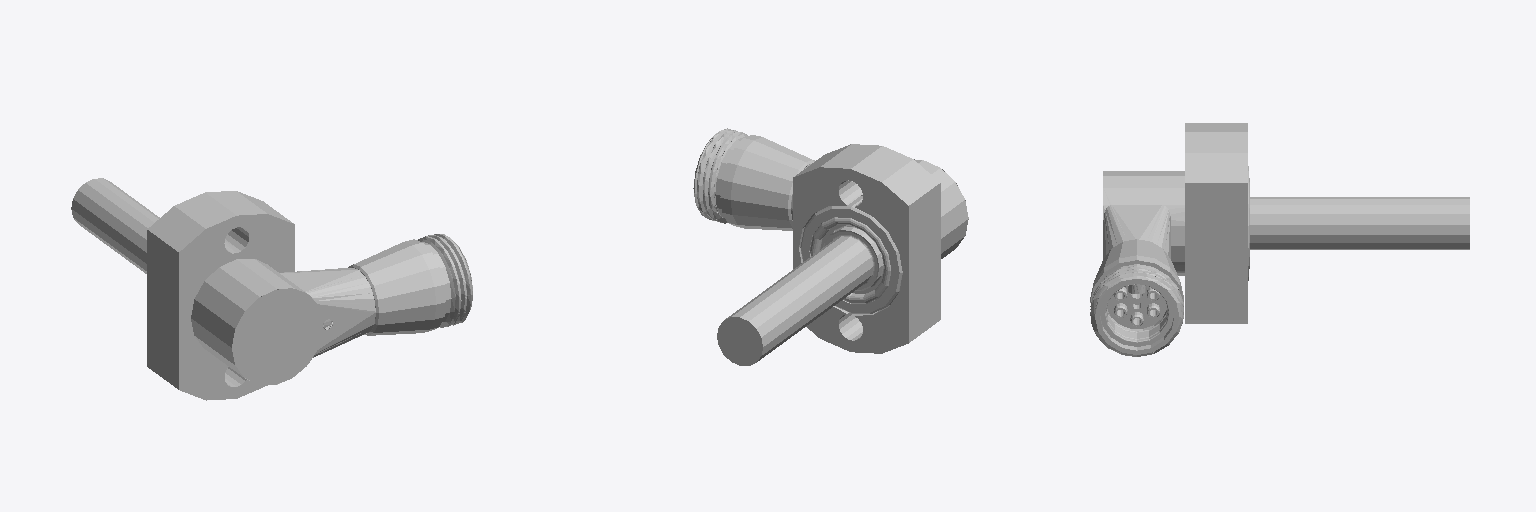
Rendered from Inductive sensor NJ2-PD-E02-2.062-V95.obj.
3 views of the same model, side by side, from view 1: azimuth 30°, elevation 25°; view 2: azimuth 150°, elevation 25°; view 3: azimuth 270°, elevation 25° (orthographic).
Bounding box in the file's own units: 2.69 × 1.89 × 3.54.